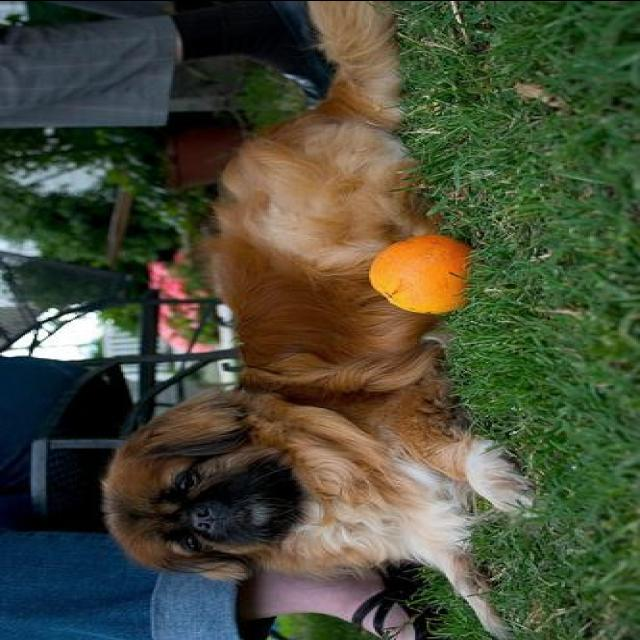pekinese: (92, 1, 550, 640)
